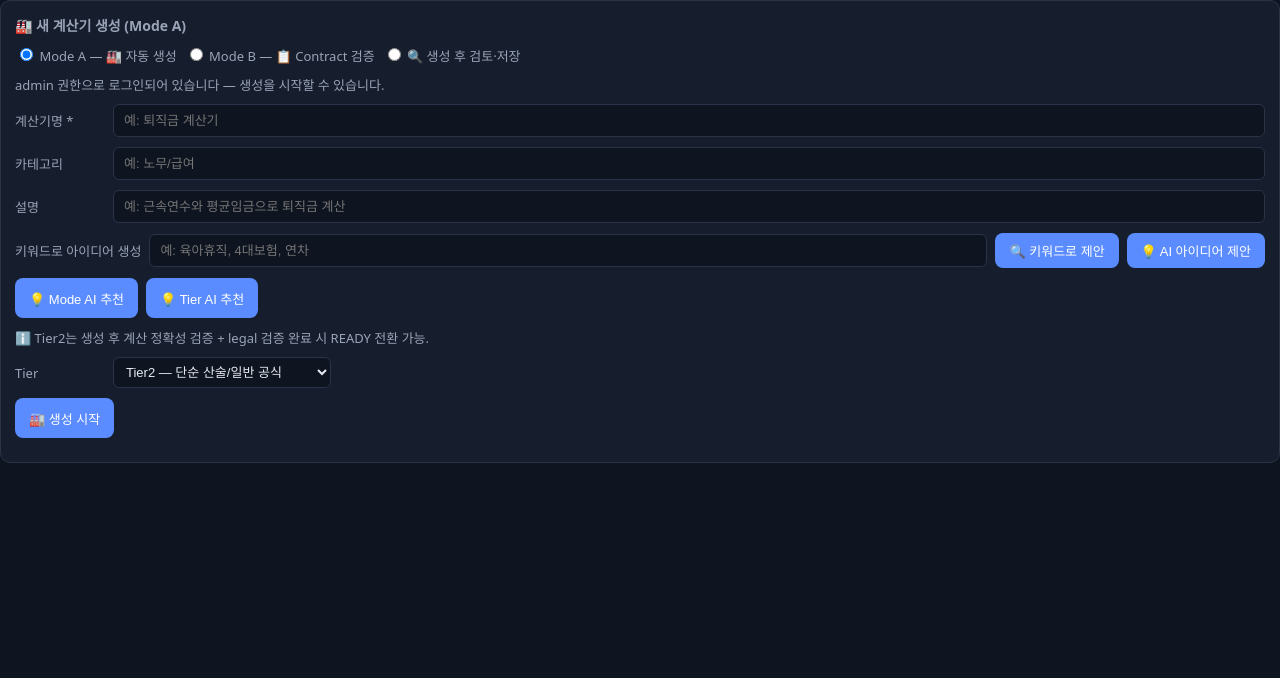
Test: App Factory 기본 정보 AI 보조 › 키워드 아이디어 제안이 이름/카테고리/설명을 채우고 생성·저장은 하지 않는다
This screenshot has width=1280, height=678.
Click the radio button labelled "Mode B — 📋 Contract 검증".
click(196, 54)  # box [190,48,203,61]
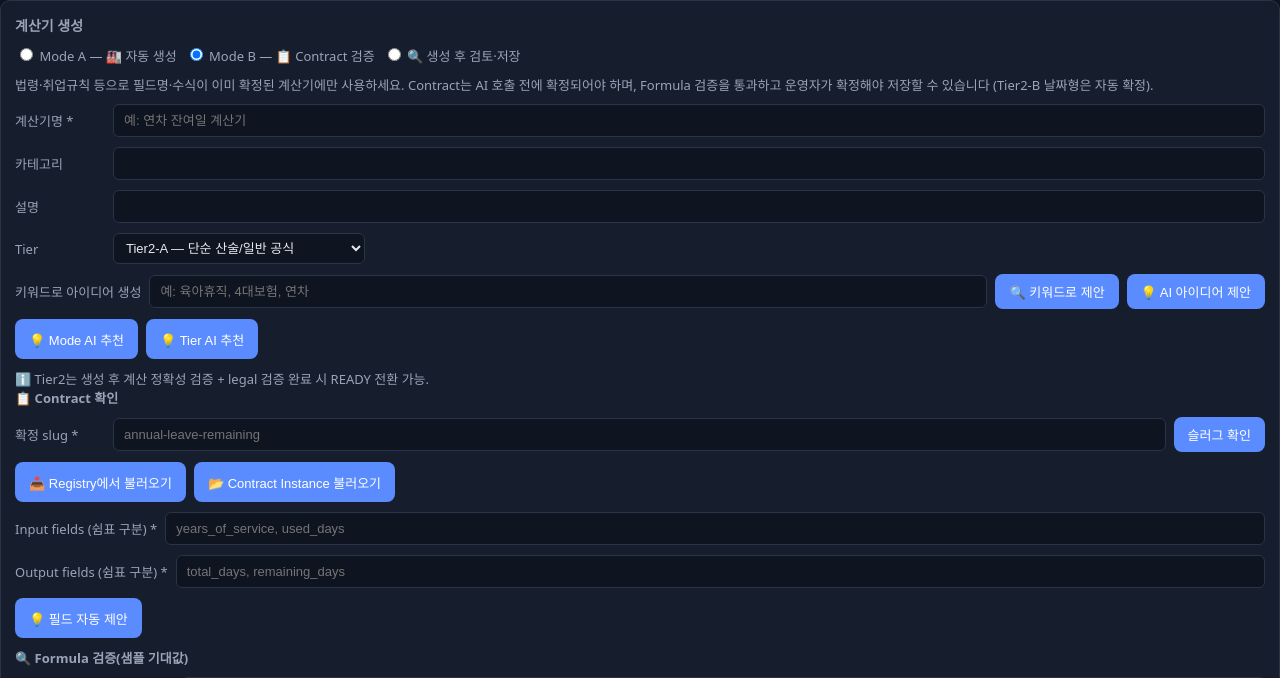
Check: the field labelled "계산기명 *" is shown, box [113,104,1265,137]
Type "육아휴직" into the field labelled "키워드로 아이디어 생성".
click(568, 292); type("육아휴직")  # box [149,275,987,308]
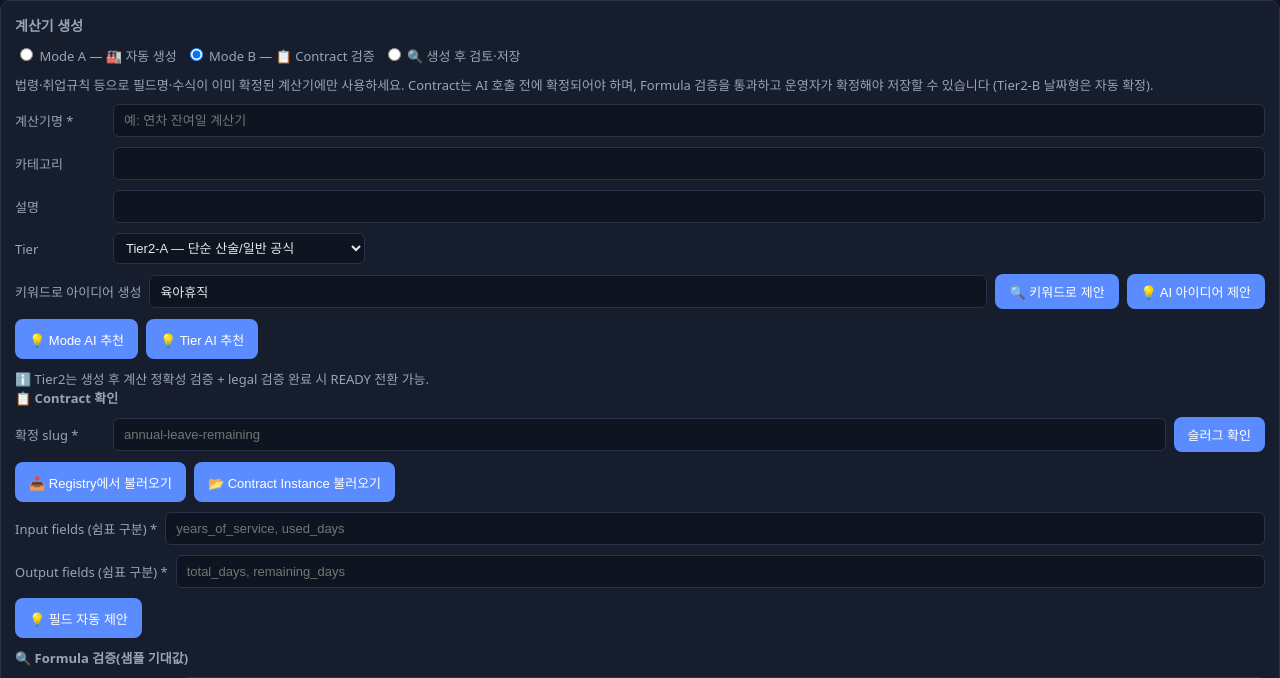
Click the button "🔍 키워드로 제안".
click(1057, 292)  # box [995,274,1119,309]
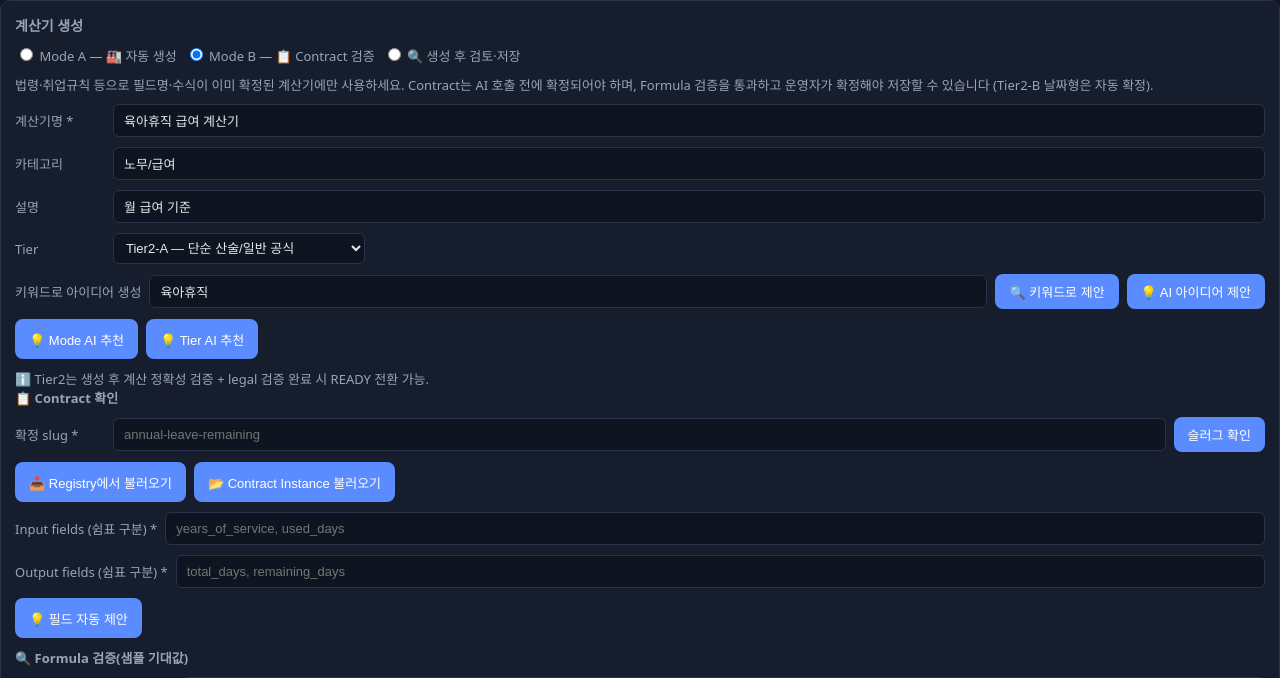
Check: the field labelled "계산기명 *" holds "육아휴직 급여 계산기", box [113,104,1265,137]
Check: the field labelled "카테고리" holds "노무/급여", box [113,147,1265,180]
Check: the field labelled "설명" holds "월 급여 기준", box [113,190,1265,223]
